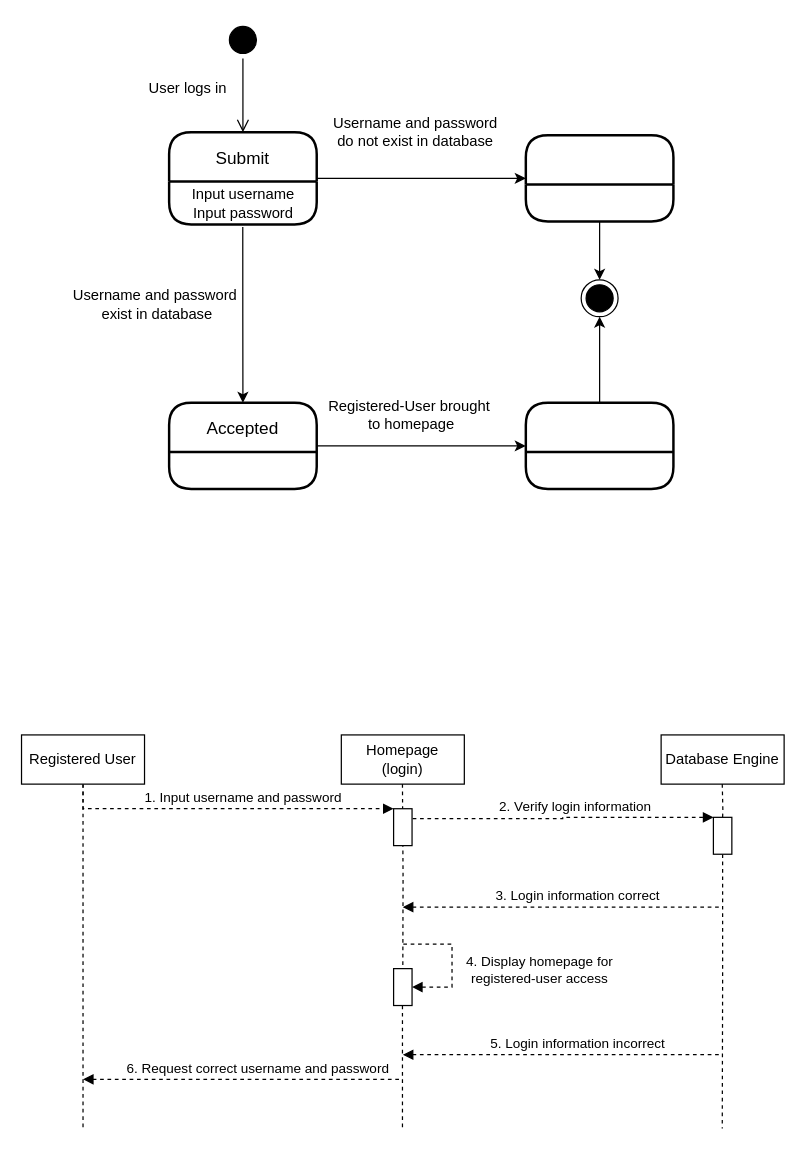
Some shapes in this 806 by 1151 pixel diagram are drawn without their labels. The shapes that lost their labels are listed below. From the top down, each one's centre as x and y in pixels, then its label:
the point at 599,177: Rejected
the point at 599,445: Registered User Access
